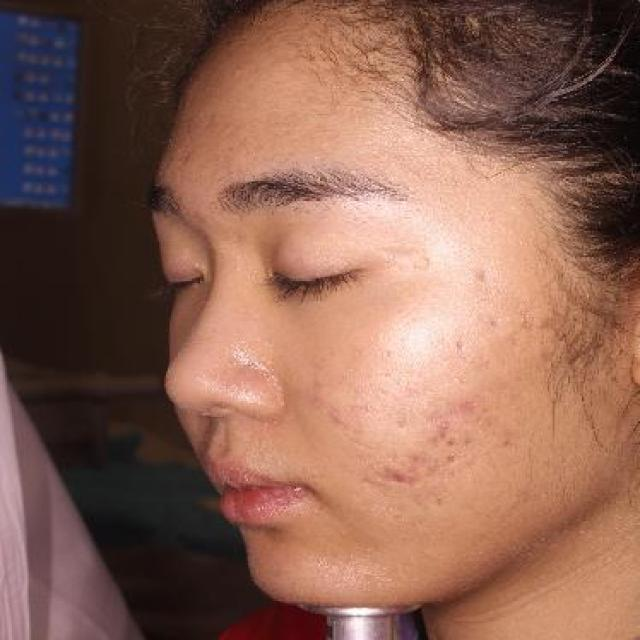dark spot: (445, 334, 476, 355), (438, 434, 462, 454)
papules: (380, 463, 411, 491)
